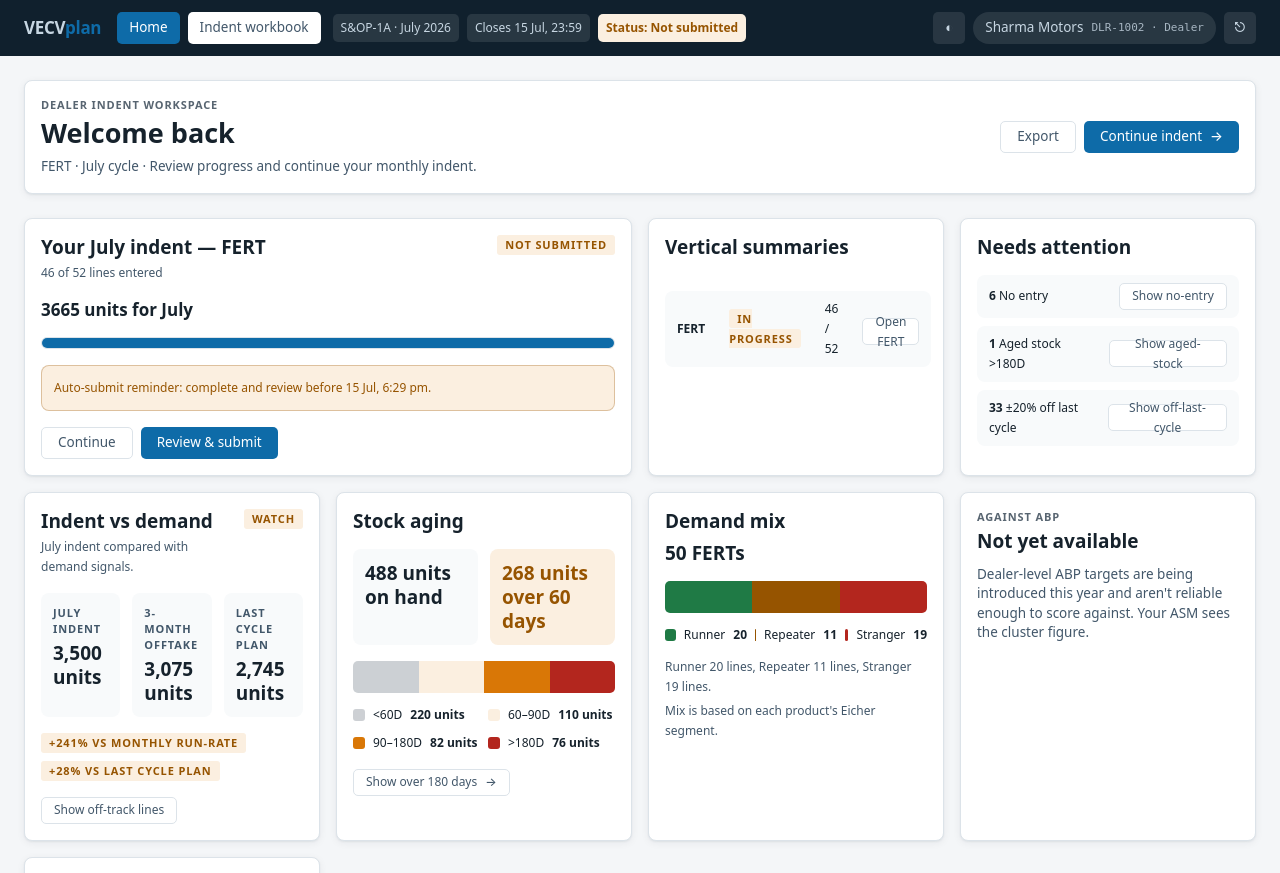
Scenario: HomePage › opens ExportModal from the Export action
Click the button "Export" at (1038, 137), box [1000,121,1076,153]
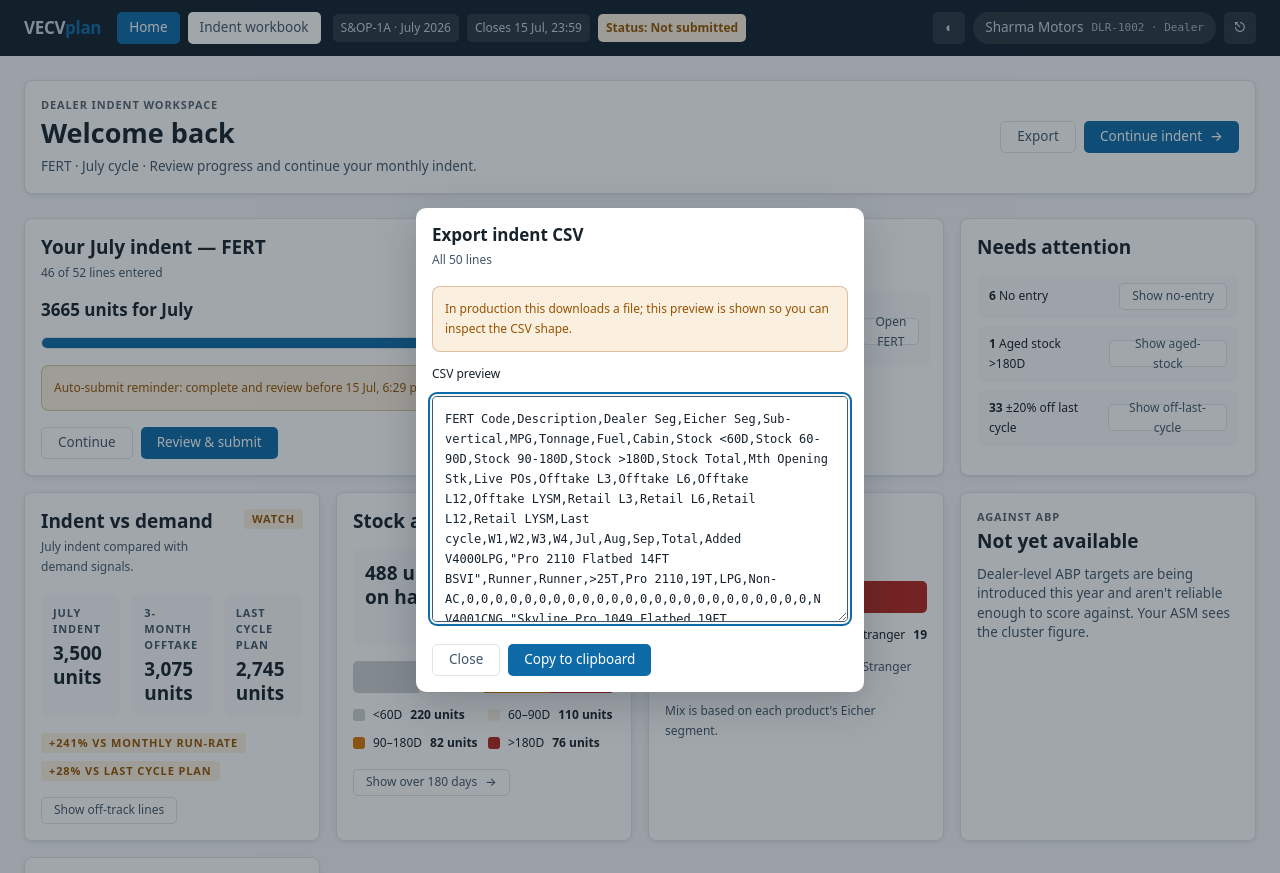
Expected: the dialog "Export indent CSV" is shown, [416,208,864,692]
